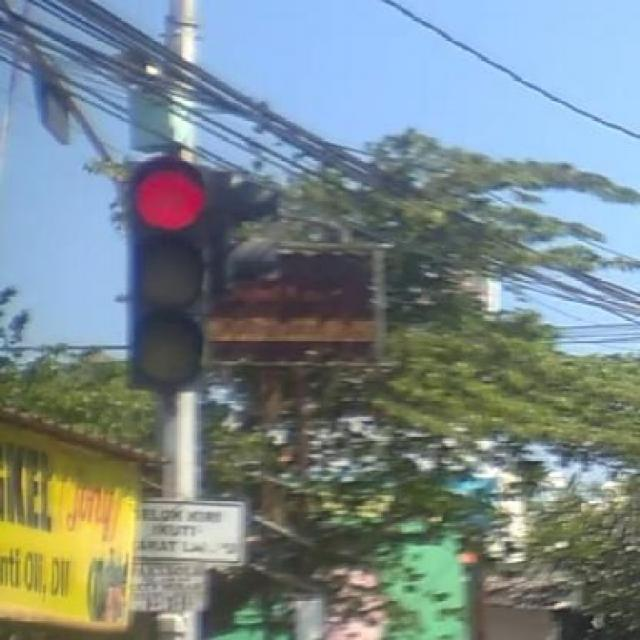traffic light: (125, 157, 211, 398)
